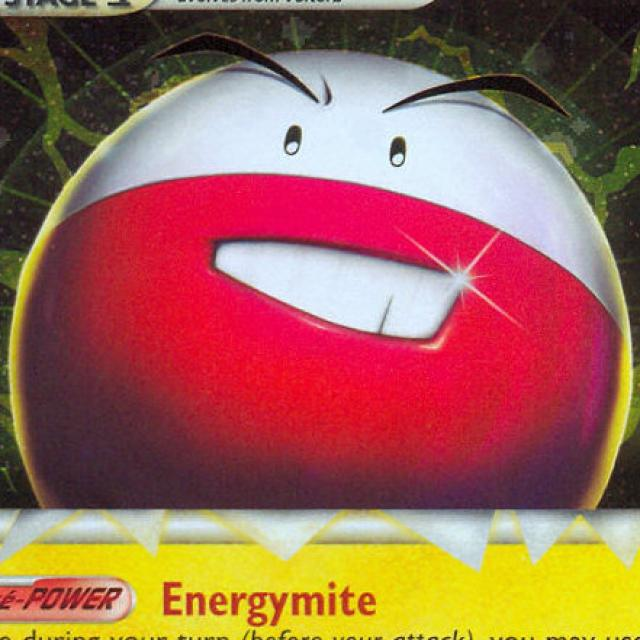Electrode: (14, 41, 636, 522)
